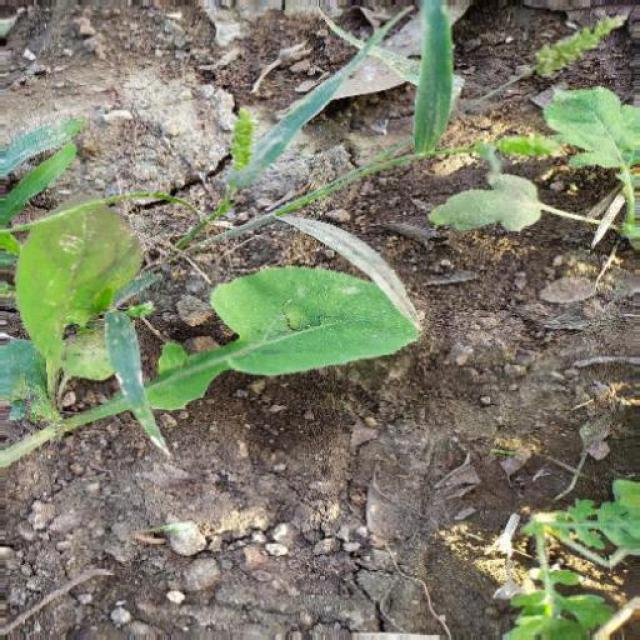weed: (6, 132, 428, 520), (445, 56, 636, 300), (457, 444, 635, 640)
